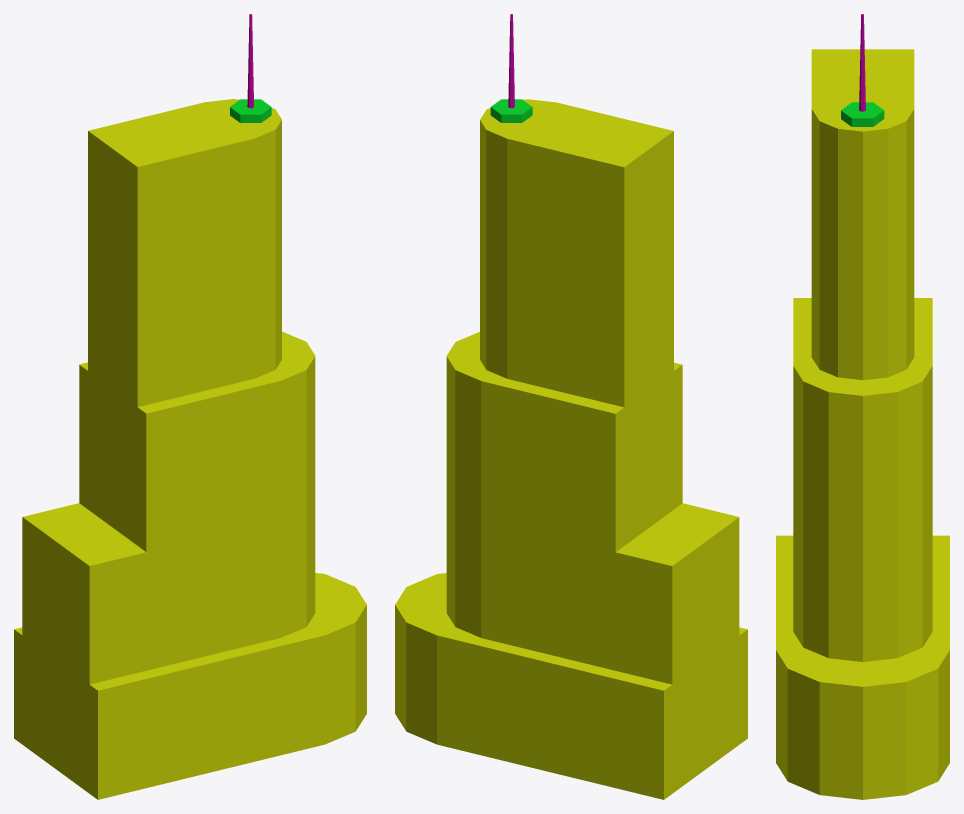
File: RumpTower.fbx
3 views of the same model, side by side, from view 1: azimuth 30°, elevation 25°; view 2: azimuth 150°, elevation 25°; view 3: azimuth 270°, elevation 25° (orthographic). The views are drawn at different scales.
Parts seen in each view (by area): view 1: Cylinder; view 2: Cylinder; view 3: Cylinder.
Boxes of the visible parts, box(x1,y1,x2,y2) form: Cylinder: box(14, 14, 366, 799); Cylinder: box(395, 14, 747, 799); Cylinder: box(776, 14, 949, 799).
Size of the model in its own units: 1297 by 2927 by 629.
